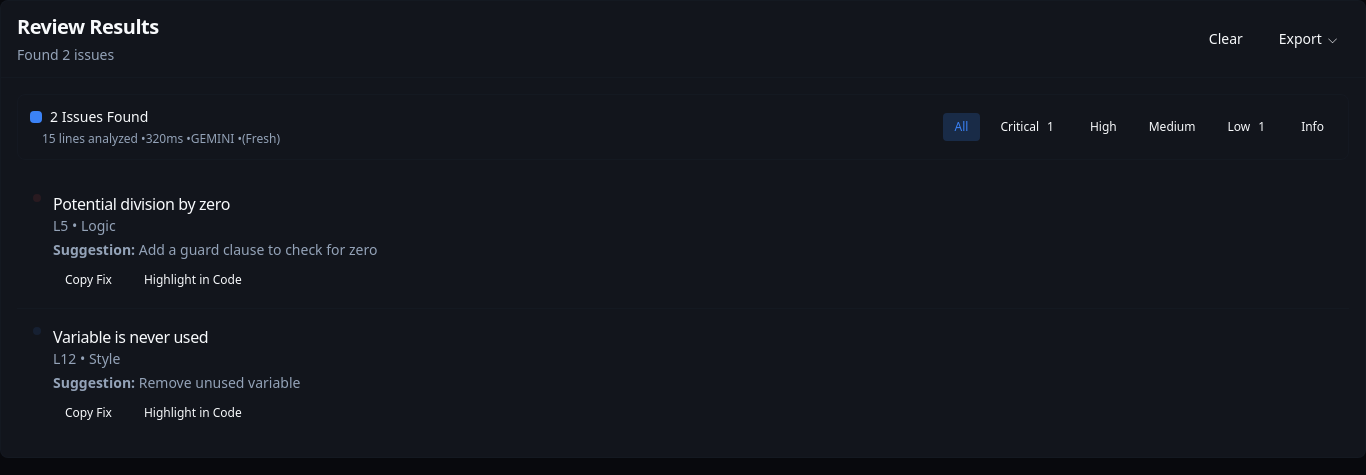
Test: ReviewDashboard Component › tests filter functionality (all severities and individual severity filters)
The width and height of the screenshot is (1366, 475).
Expected: the heading "Potential division by zero" is shown, x1=53 y1=193 x2=230 y2=215
Expected: the heading "Variable is never used" is shown, x1=53 y1=326 x2=208 y2=348
// Click Critical filter
Step 1. Click the button "Critical1" → point(1029, 127), box x1=988 y1=113 x2=1070 y2=141
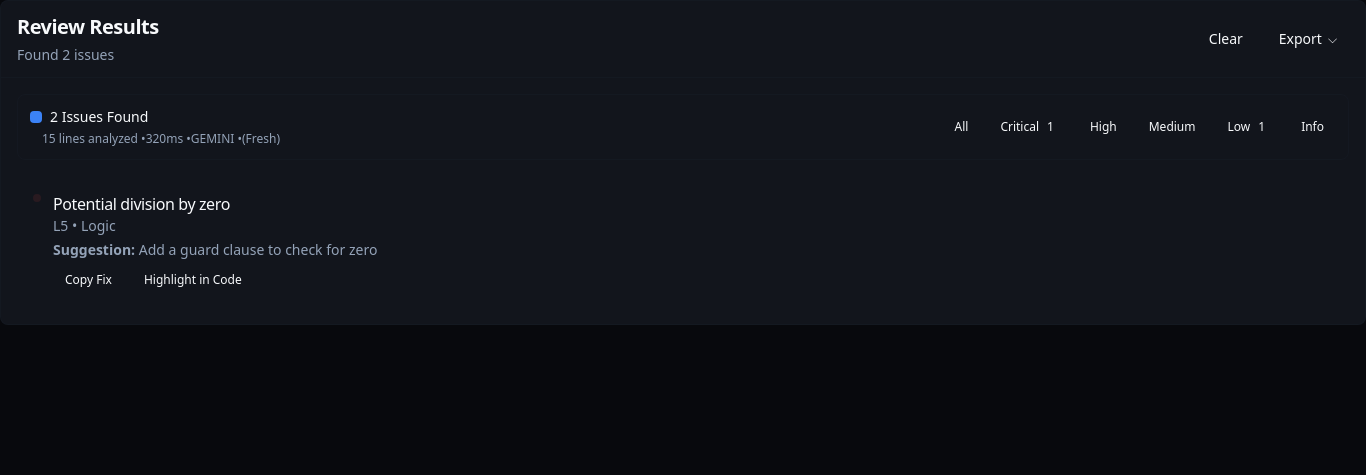
Expected: the heading "Potential division by zero" is shown, x1=53 y1=193 x2=230 y2=215
Now the heading "Variable is never used" is gone
// Click Low filter
Step 2. Click the button "Low1" → point(1248, 127), box x1=1216 y1=113 x2=1281 y2=141
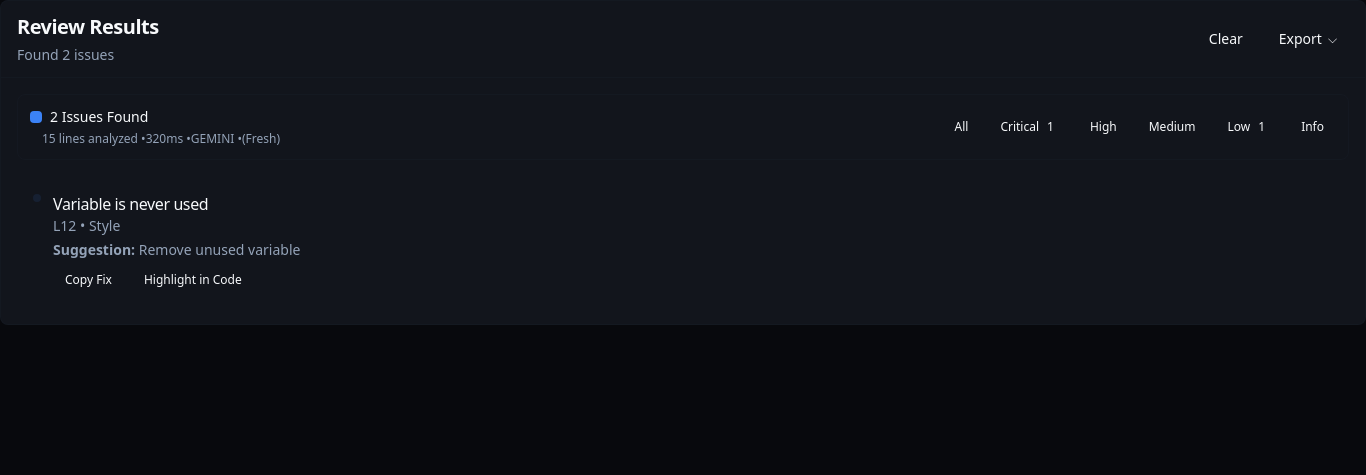
Now the heading "Variable is never used" is shown, box x1=53 y1=193 x2=208 y2=215
Now the heading "Potential division by zero" is gone
// Click All filter
Step 3. Click the button "All" → point(961, 127), box x1=942 y1=113 x2=980 y2=141
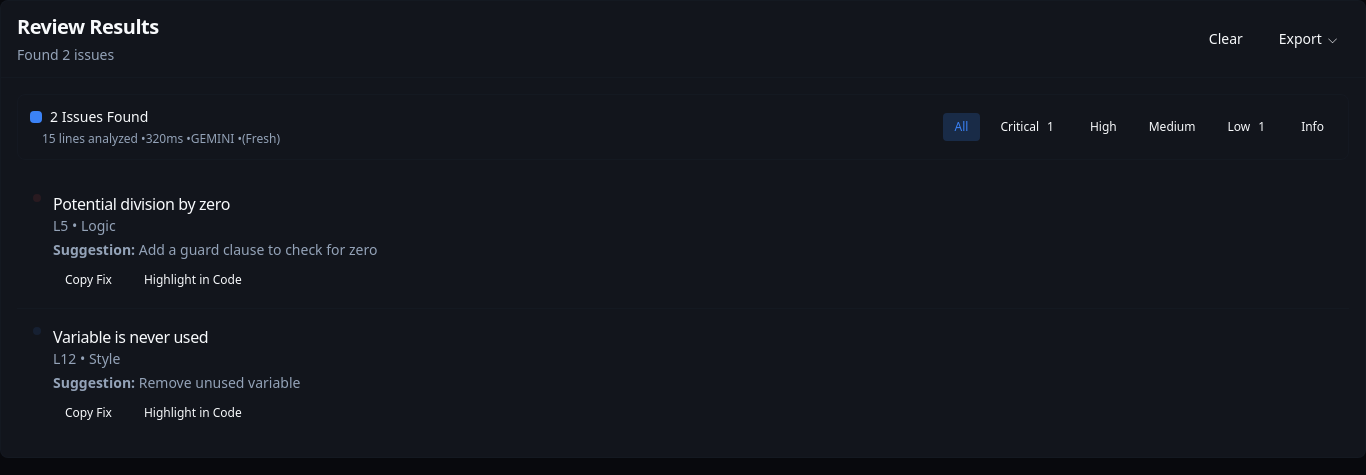
Now the heading "Variable is never used" is shown, box x1=53 y1=326 x2=208 y2=348
Now the heading "Potential division by zero" is shown, box x1=53 y1=193 x2=230 y2=215
